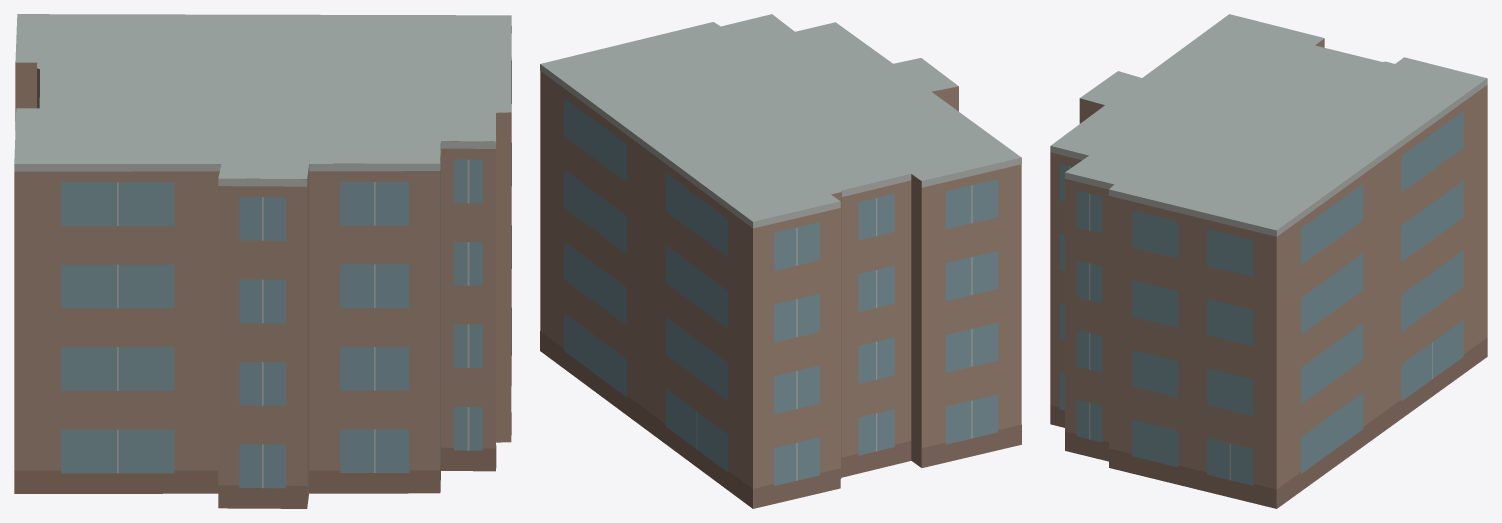
Rendered from survey-upis-32999534.glb.
3 renders of one model, left to right at view 1: azimuth 30°, elevation 25°; view 2: azimuth 150°, elevation 25°; view 3: azimuth 270°, elevation 25°, orthographic. The views are drawn at different scales.
Visible parts, largest first — view 1: survey-upis-32999534.tmp; view 2: survey-upis-32999534.tmp; view 3: survey-upis-32999534.tmp.
Boxes of the visible parts, x1,y1,x2,y2 form: survey-upis-32999534.tmp: (14, 14, 511, 508); survey-upis-32999534.tmp: (540, 14, 1021, 508); survey-upis-32999534.tmp: (1050, 14, 1487, 508).
Bounding box in the file's own units: 17.77 × 10.65 × 15.16.
